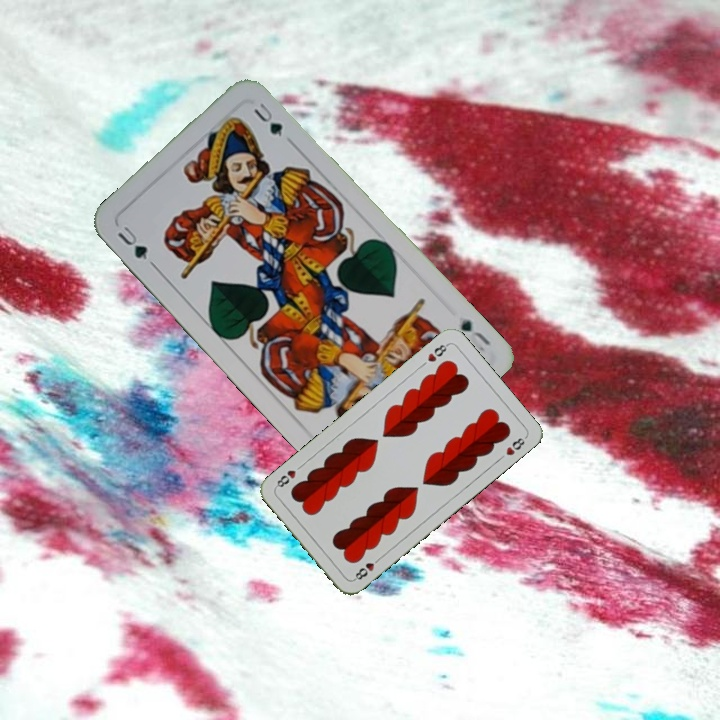GU: (456, 314, 495, 354), (113, 222, 150, 263)
H8: (349, 553, 384, 583), (423, 339, 451, 364)
